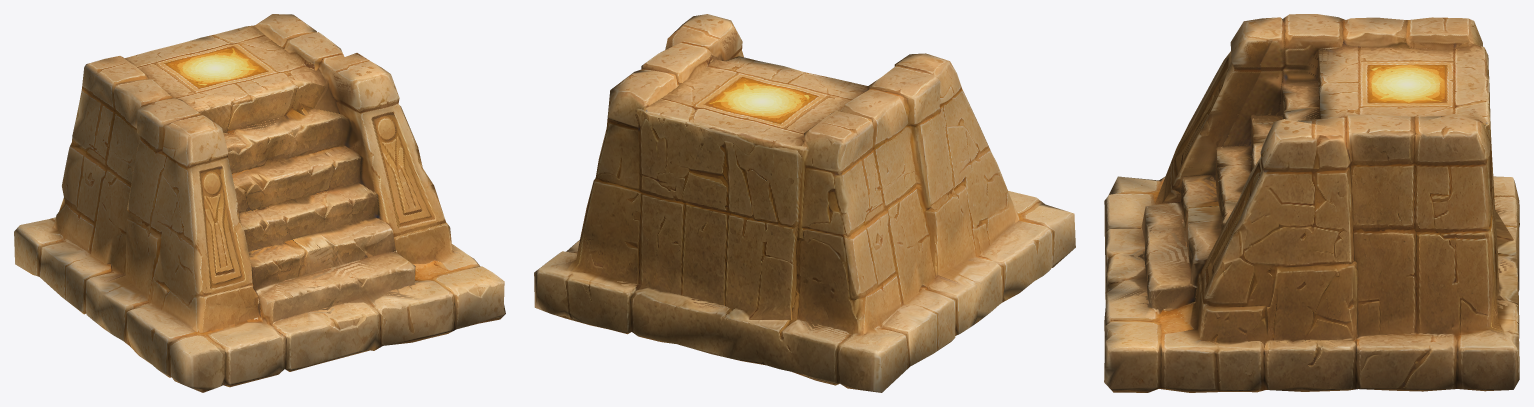
File: Tile_Desert_StairsUp.fbx
3 views of the same model, side by side, from view 1: azimuth 30°, elevation 25°; view 2: azimuth 150°, elevation 25°; view 3: azimuth 270°, elevation 25° (orthographic). The views are drawn at different scales.
Visible parts, largest first — view 1: texture_mapping; view 2: texture_mapping; view 3: texture_mapping.
Boxes of the visible parts, box(x1,y1,x2,y2) form: texture_mapping: box(14, 14, 505, 392); texture_mapping: box(534, 14, 1075, 392); texture_mapping: box(1104, 14, 1519, 392).
Size of the model in its own units: 1 by 0.9991 by 0.6227.
Materials: 1 (1 with a texture image).
